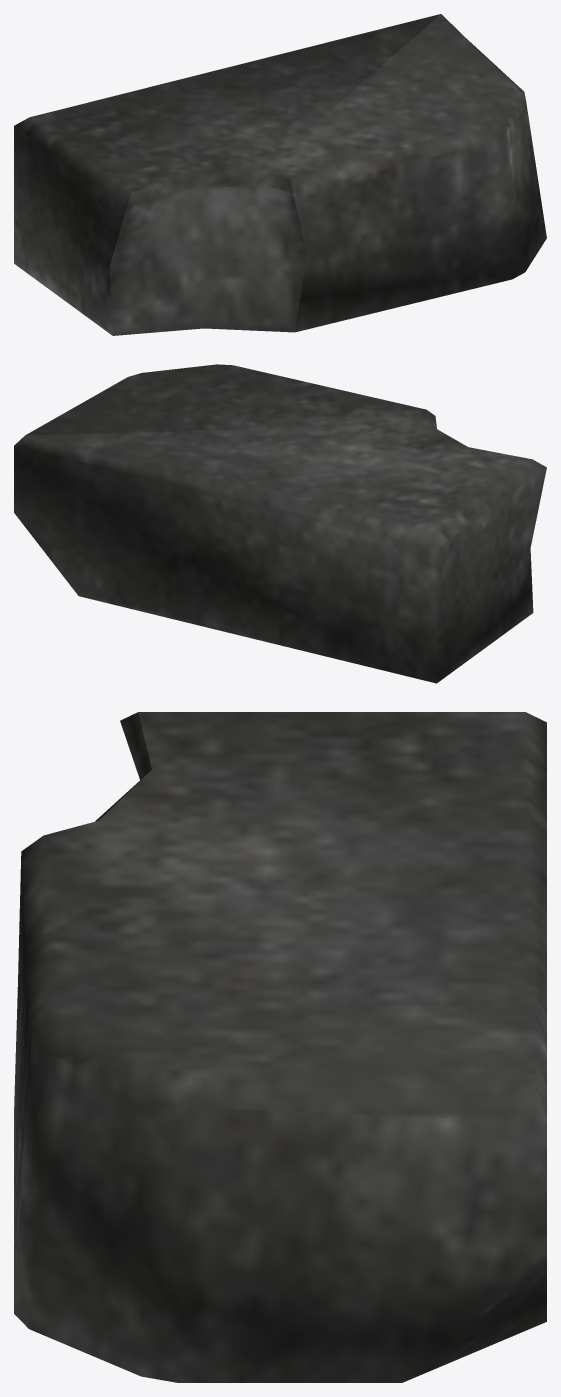
File: ConcBlock_01.FBX
3 views of the same model, one above another, from view 1: azimuth 30°, elevation 25°; view 2: azimuth 150°, elevation 25°; view 3: azimuth 270°, elevation 25° (orthographic). The views are drawn at different scales.
Visible parts, largest first — view 1: ConcBlock_01; view 2: ConcBlock_01; view 3: ConcBlock_01.
Boxes of the visible parts, x1,y1,x2,y2 form: ConcBlock_01: [14, 14, 546, 335]; ConcBlock_01: [14, 364, 546, 683]; ConcBlock_01: [14, 712, 546, 1382].
Size of the model in its own units: 44.9 by 14.68 by 25.3.
